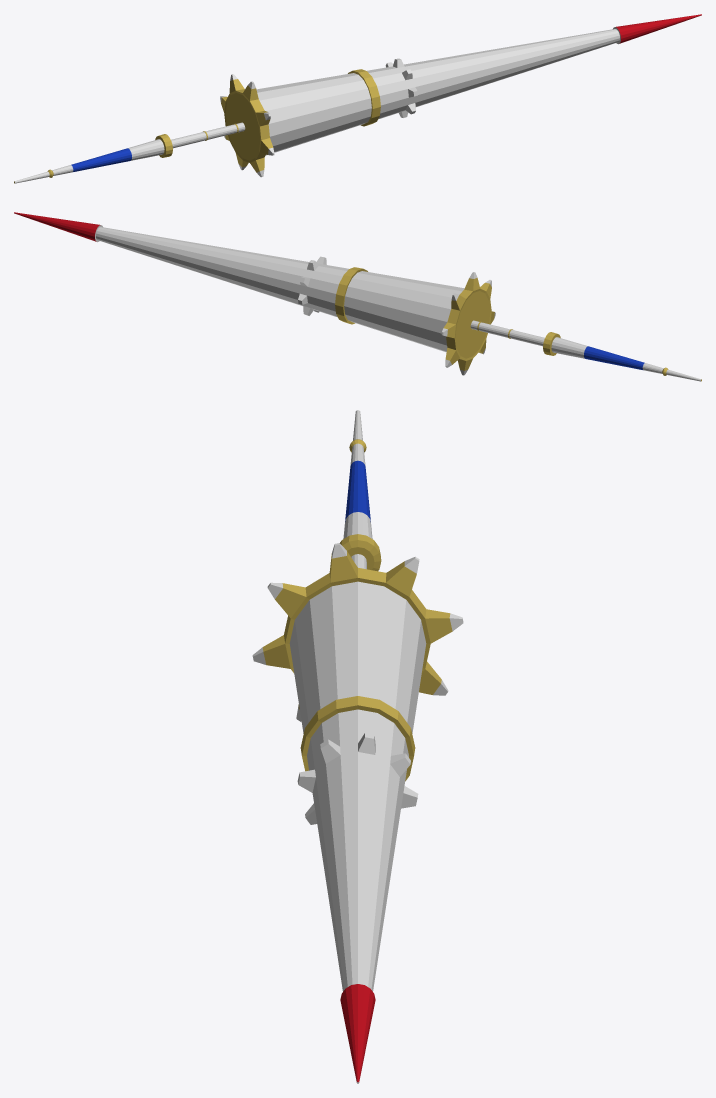
Rendered from lanza_caballero.glb.
3 views of the same model, one above another, from view 1: azimuth 30°, elevation 25°; view 2: azimuth 150°, elevation 25°; view 3: azimuth 270°, elevation 25° (orthographic). The views are drawn at different scales.
Parts seen in each view (by area): view 1: Cylinder; view 2: Cylinder; view 3: Cylinder.
Boxes of the visible parts, <box> form: Cylinder: <box>14,14,701,183</box>; Cylinder: <box>14,212,701,381</box>; Cylinder: <box>252,410,463,1083</box>.
Bounding box in the file's own units: 2.4 × 0.3191 × 0.3191.
